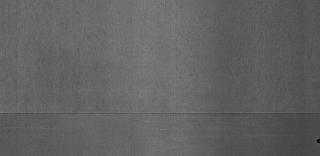punching hole: (316, 138, 320, 144)
welding line: (1, 111, 319, 119)
